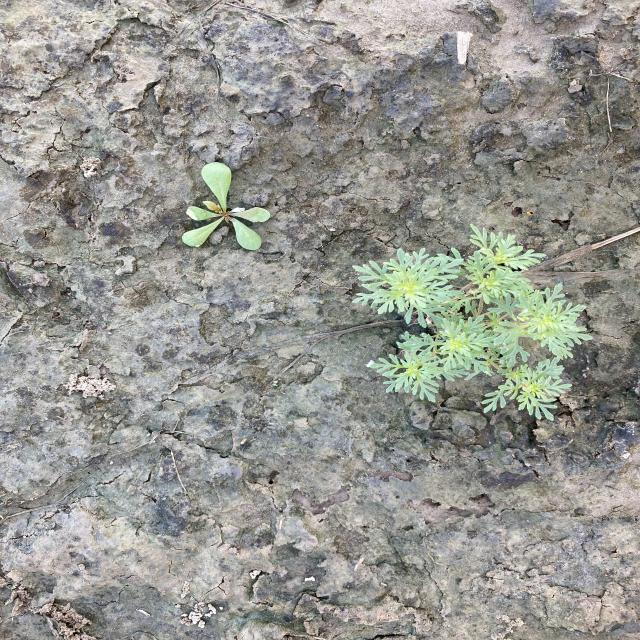Carpetweed: (180, 161, 271, 252)
Ragweed: (350, 223, 596, 423)
